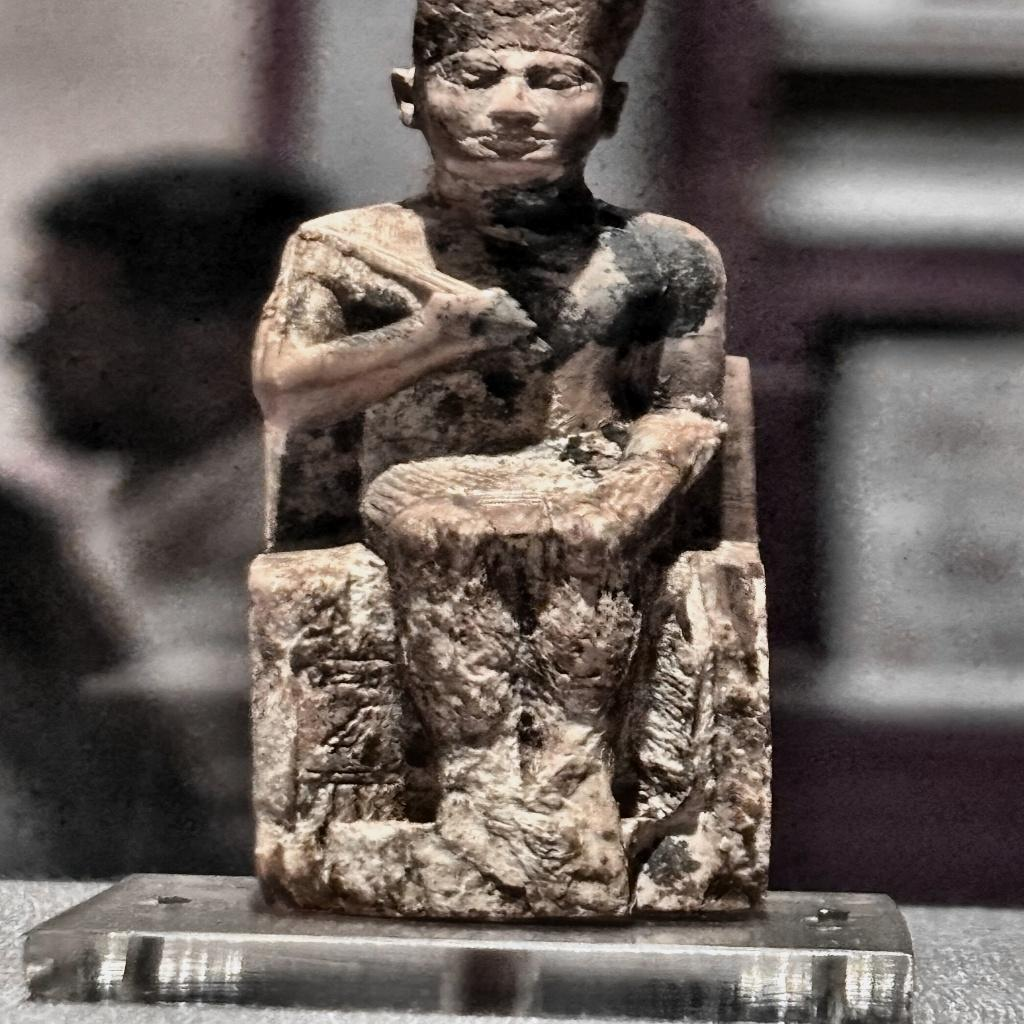Statue of Khufu: (246, 0, 776, 917)
